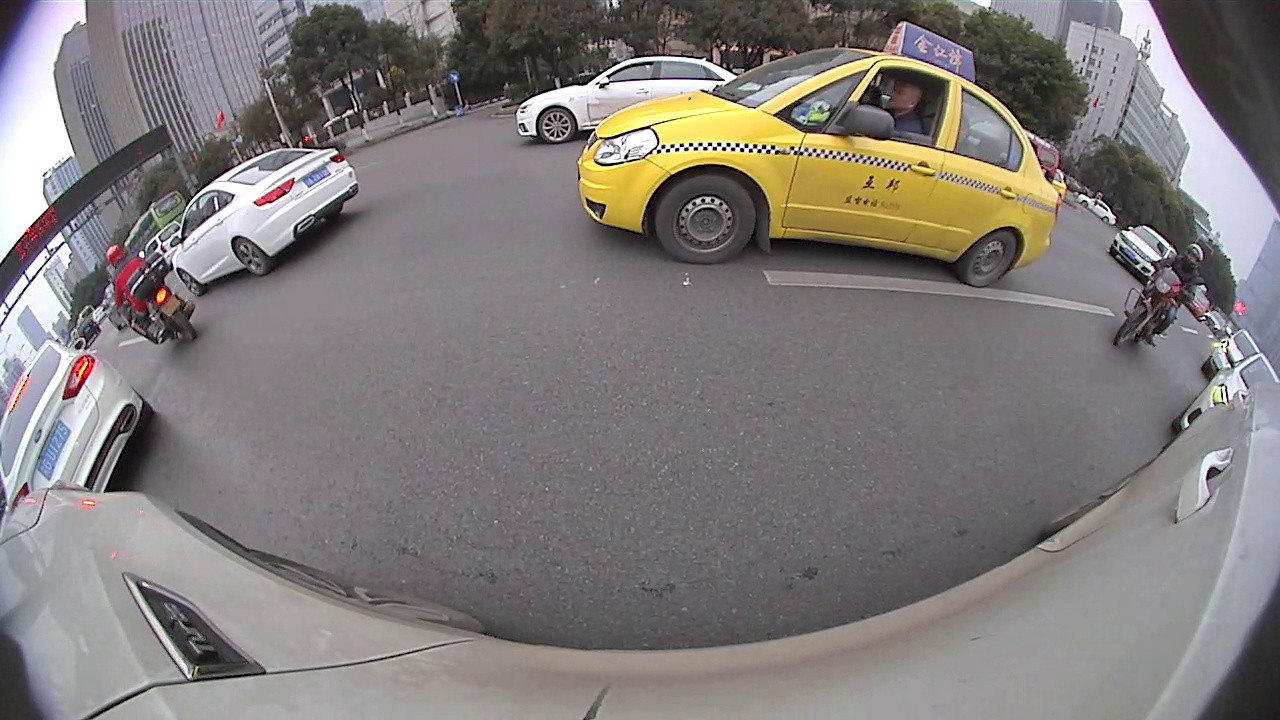car: (578, 23, 1058, 287), (173, 148, 359, 296), (3, 340, 157, 492), (515, 58, 737, 142), (1173, 355, 1277, 435), (1111, 226, 1173, 283), (1206, 328, 1260, 379)
front: (659, 172, 756, 264), (539, 106, 577, 143), (178, 269, 203, 300)
rear: (965, 231, 1020, 289), (230, 236, 272, 278)
rider: (1114, 243, 1203, 348), (109, 248, 197, 344)
